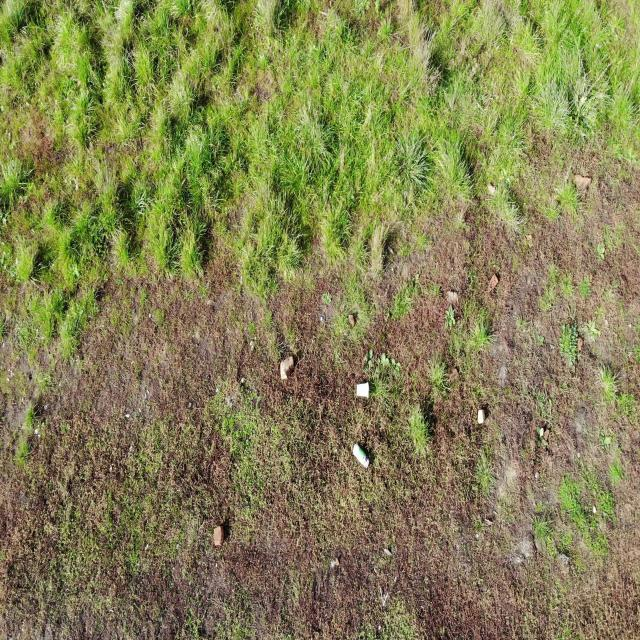rubbish: (352, 442, 370, 471), (355, 382, 369, 400)
